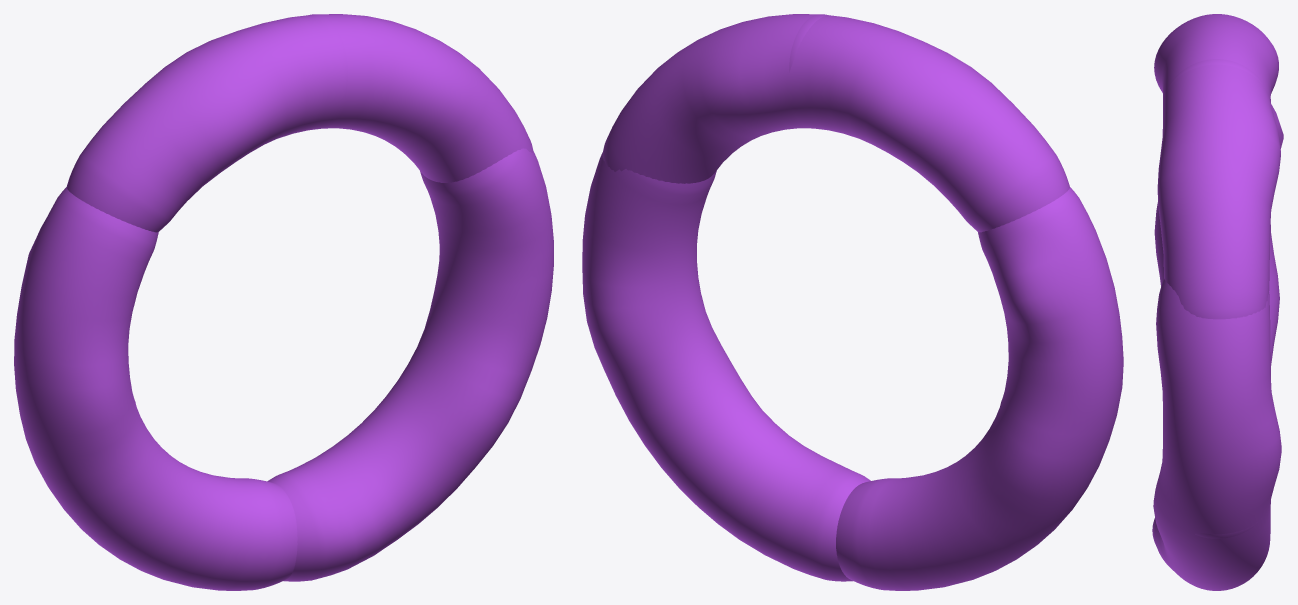
Rendered from Ring Test 8.fbx.
3 views of the same model, side by side, from view 1: azimuth 30°, elevation 25°; view 2: azimuth 150°, elevation 25°; view 3: azimuth 270°, elevation 25° (orthographic). The views are drawn at different scales.
Parts seen in each view (by area): view 1: 1 Ring, 3 Ring, 2 Ring; view 2: 1 Ring, 3 Ring, 2 Ring; view 3: 3 Ring, 2 Ring, 1 Ring, 3 Sphere, 2 Sphere.
Part boxes in pixels (x1,y1,x2,y2): 1 Ring: (14, 187, 297, 590); 3 Ring: (66, 14, 533, 232); 2 Ring: (267, 148, 553, 581); 1 Ring: (836, 187, 1123, 590); 3 Ring: (602, 14, 1069, 232); 2 Ring: (582, 152, 870, 581); 3 Ring: (1154, 14, 1280, 319); 2 Ring: (1152, 279, 1281, 590); 1 Ring: (1154, 104, 1283, 375); 3 Sphere: (1163, 59, 1266, 104); 2 Sphere: (1195, 518, 1261, 538).
Size of the model in its own units: 1057 by 1068 by 243.
